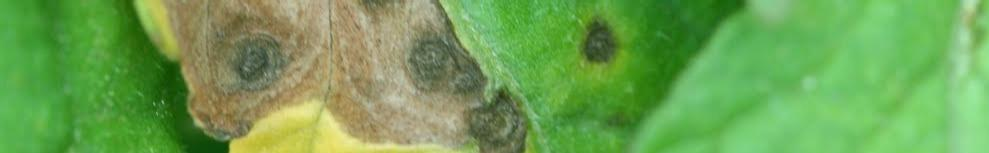Tomato leaf late blight: (0, 0, 811, 153), (590, 0, 989, 153)
